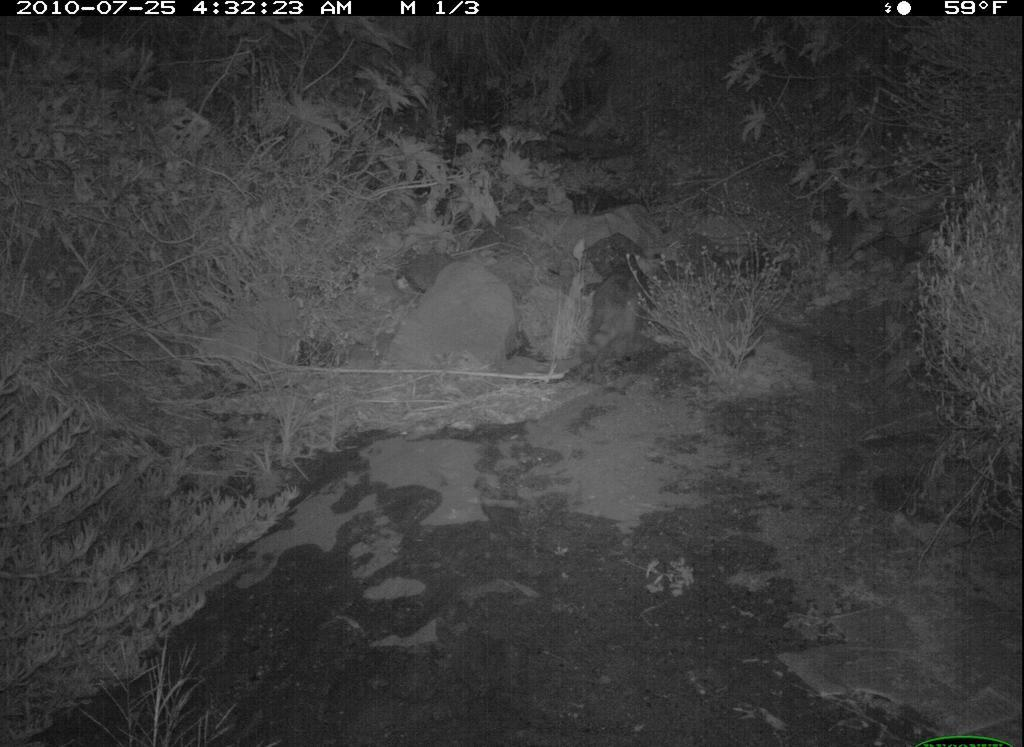raccoon: (576, 261, 654, 372)
